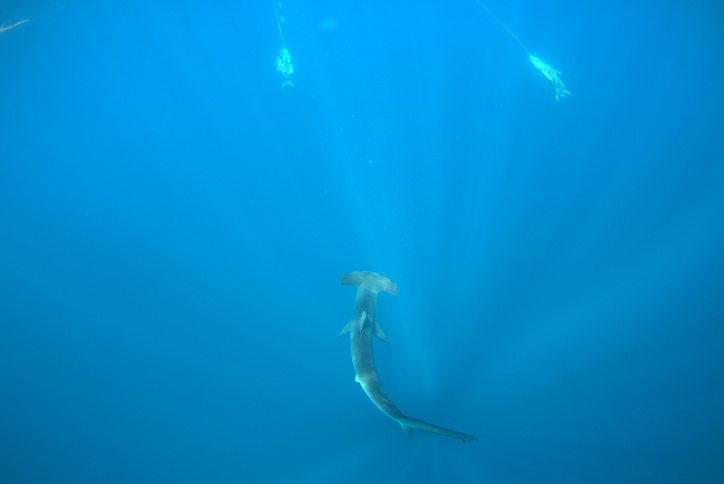Hammer: (298, 250, 493, 452)
